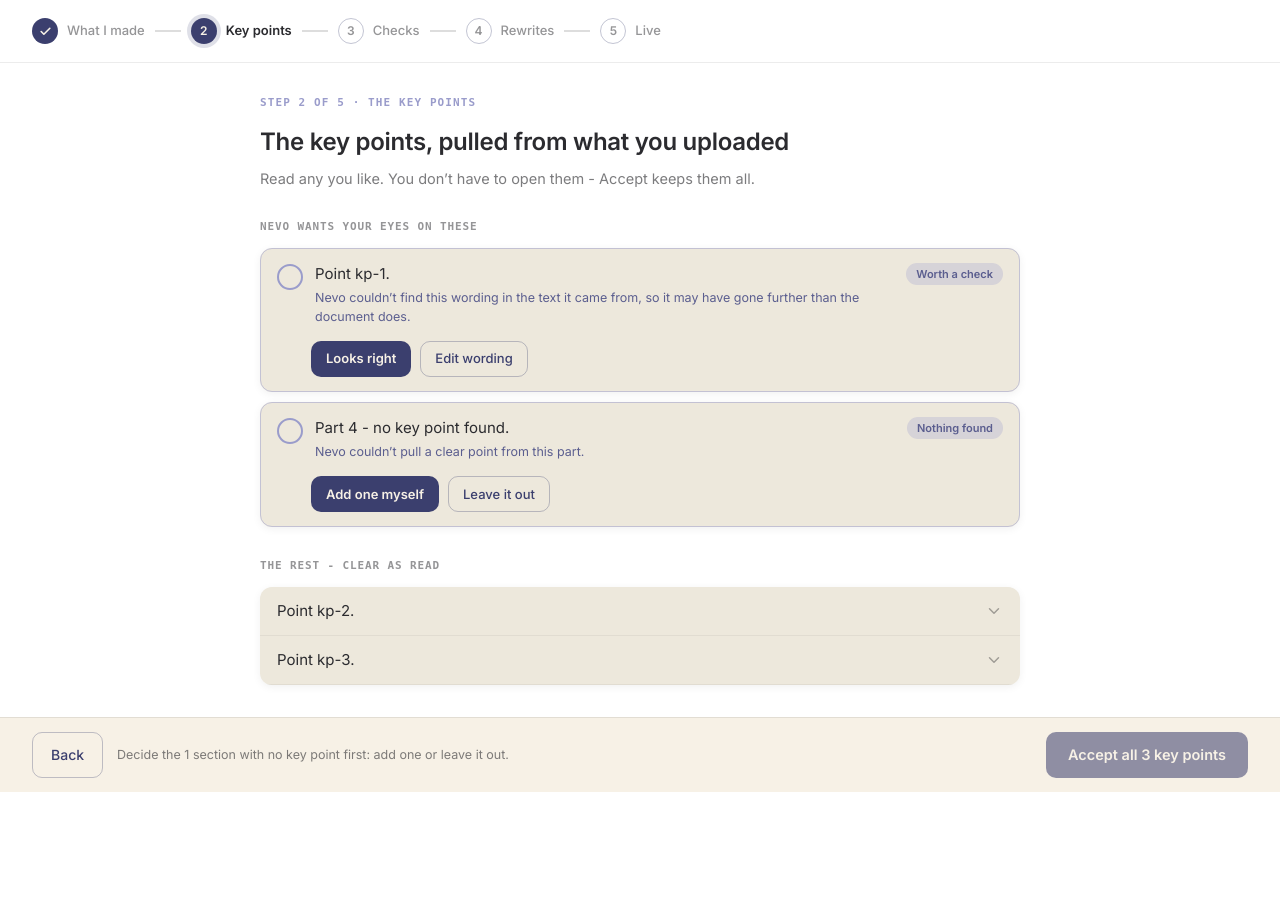
Test case: the key points › amends a flagged point, and keeps it in place as done
Expected: the navigation bar named "Lesson review steps" is shown, top-left (0, 0), bottom-right (1279, 63)
Click the button "Edit wording" at (474, 359), box top-left (420, 341), bottom-right (528, 377)
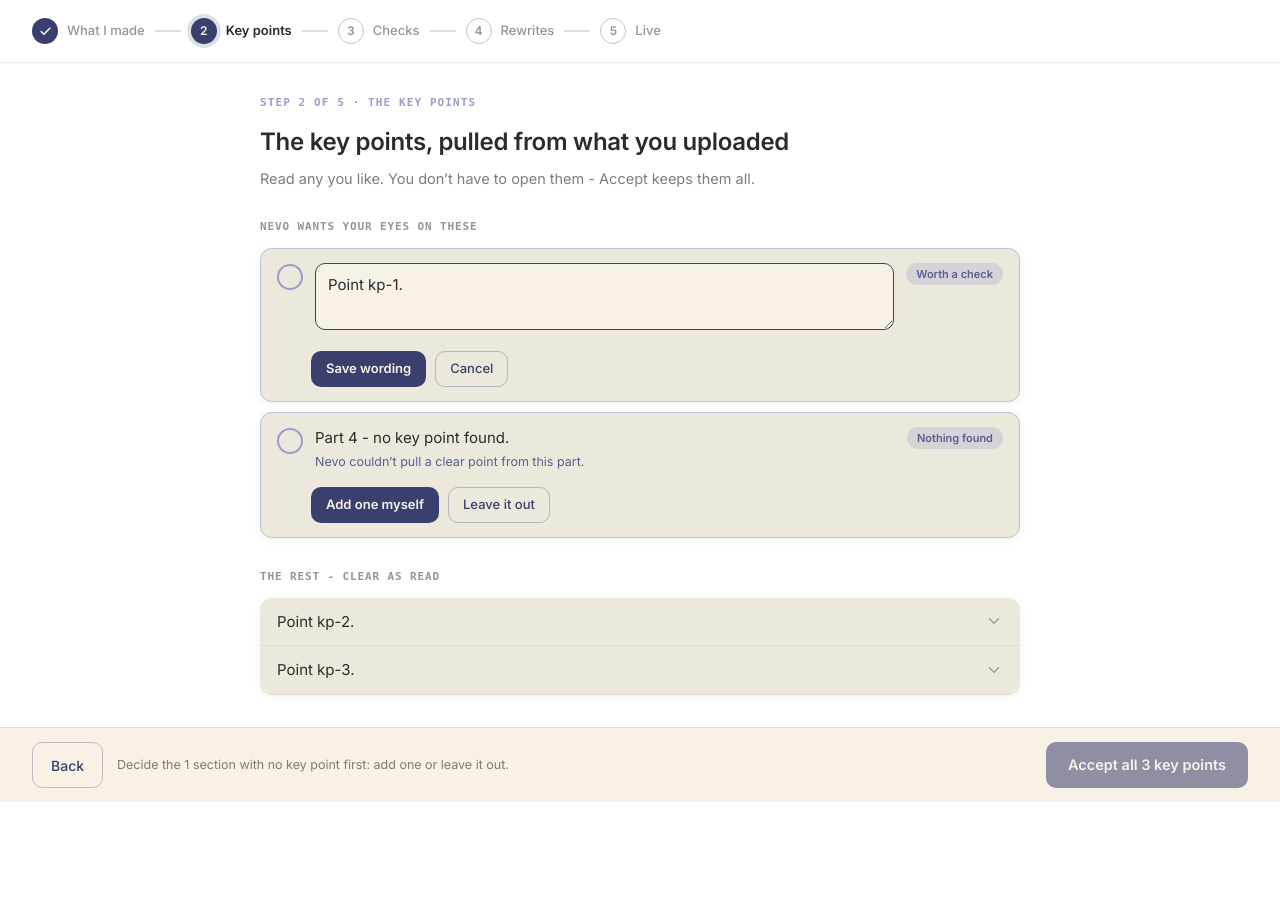
Replace the text in the text box named "Key point wording" with "Leaves make food." at (605, 296), box top-left (315, 263), bottom-right (894, 330)
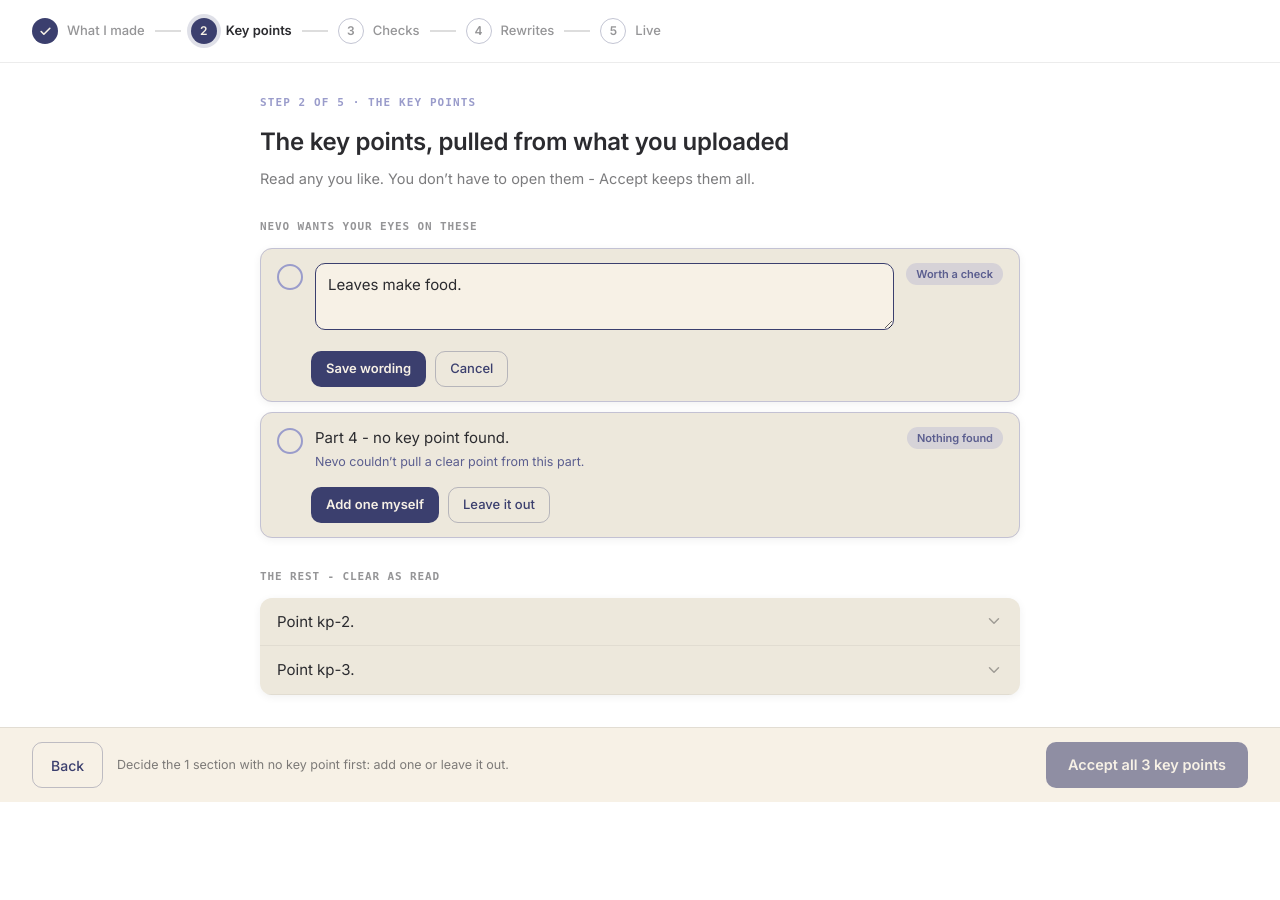
Click the button "Save wording" at (369, 369), box top-left (311, 351), bottom-right (426, 387)
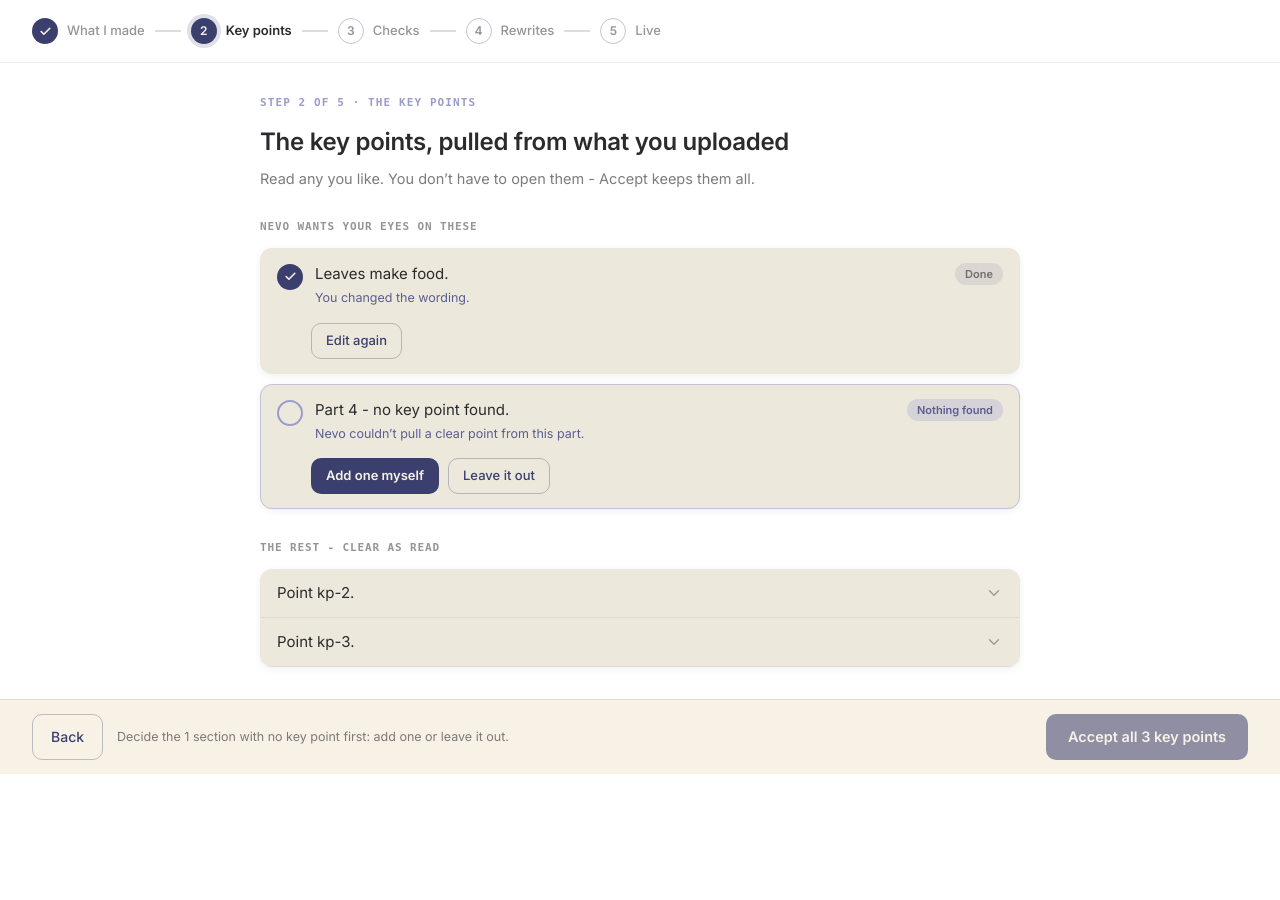
Expected: the text "You changed the wording." is shown, top-left (315, 290), bottom-right (470, 306)
Expected: the text "Leaves make food." is shown, top-left (315, 264), bottom-right (449, 283)
